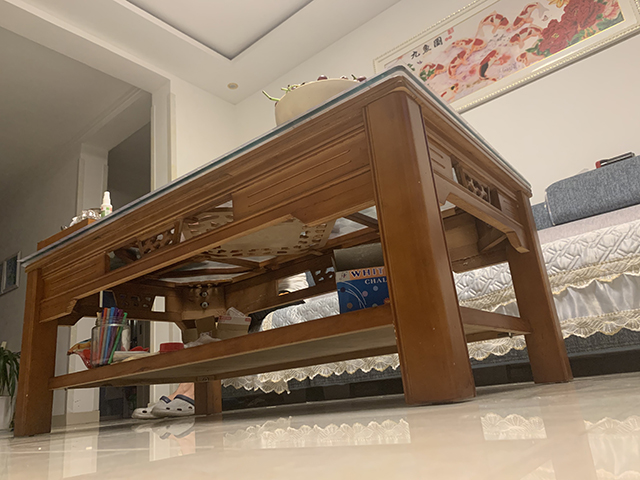sofa: (534, 156, 640, 372)
table: (7, 64, 577, 439)
